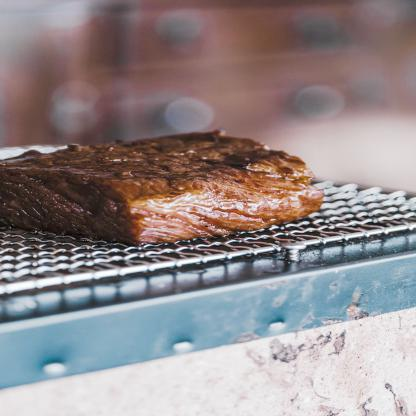Carne: (0, 129, 334, 246)
